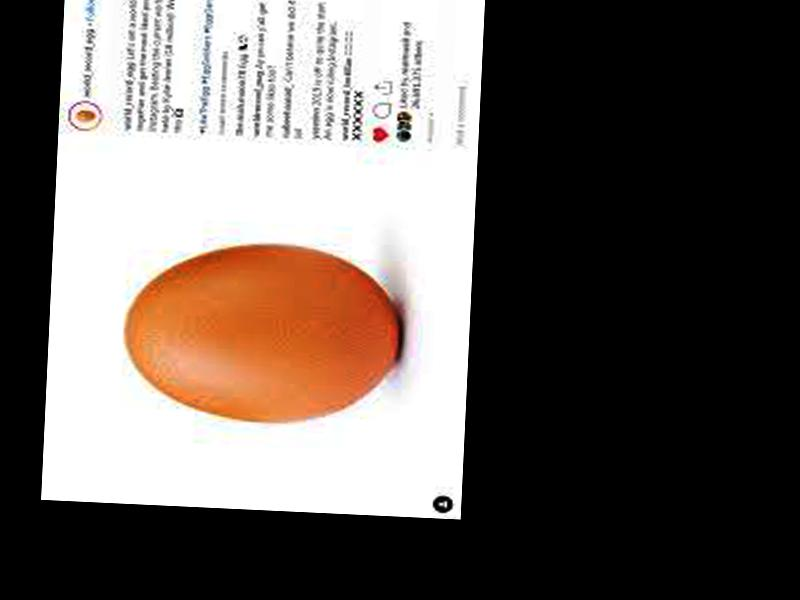Eggs: (122, 238, 401, 428)
